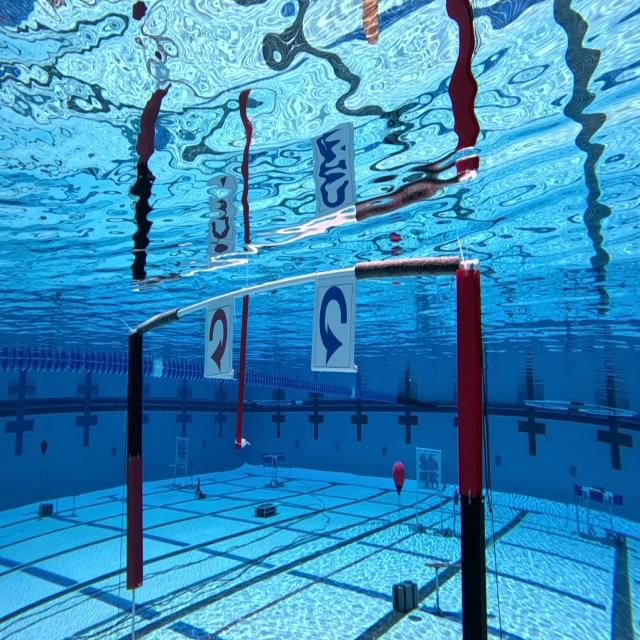blue_side: (308, 269, 361, 374)
red_side: (201, 295, 237, 385)
